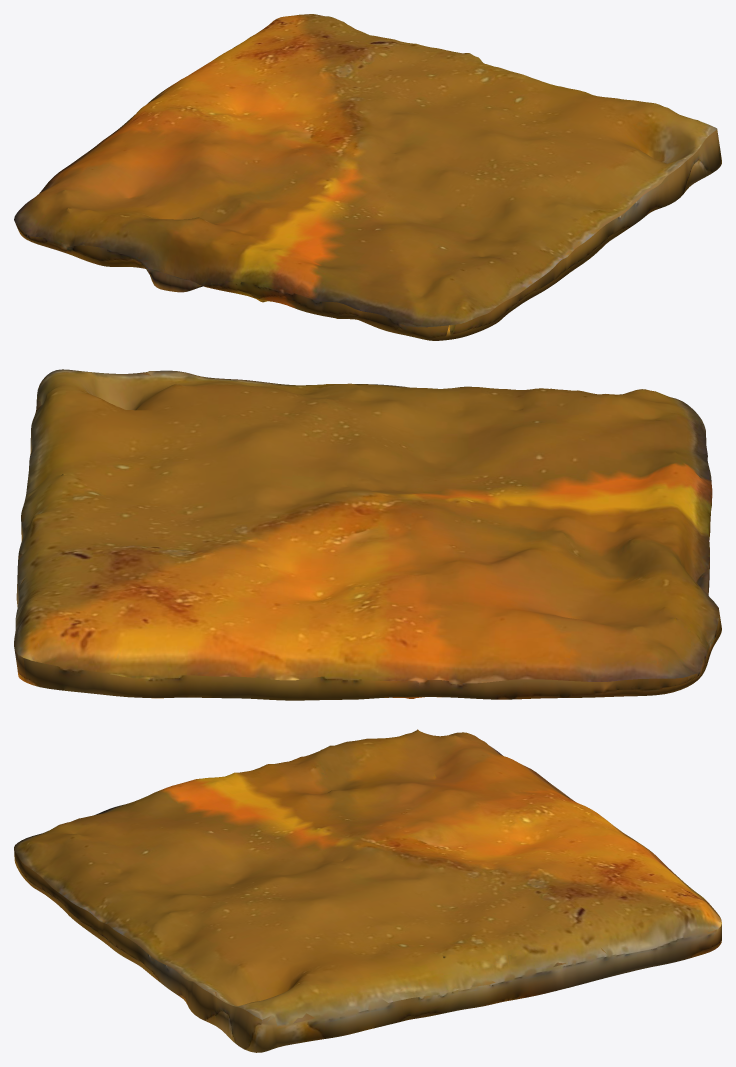
Rendered from cheese.glb.
The picture shows the model from 3 angles, top to bottom: view 1: azimuth 30°, elevation 25°; view 2: azimuth 150°, elevation 25°; view 3: azimuth 270°, elevation 25°; orthographic projection. The views are drawn at different scales.
Parts seen in each view (by area): view 1: cheese; view 2: cheese; view 3: cheese.
Part boxes in pixels (<box>): cheese: <box>14,14,721,340</box>; cheese: <box>14,369,721,700</box>; cheese: <box>14,729,721,1052</box>.
Size of the model in its own units: 10.13 by 1.09 by 9.97.
Materials: 1 (1 with a texture image).
